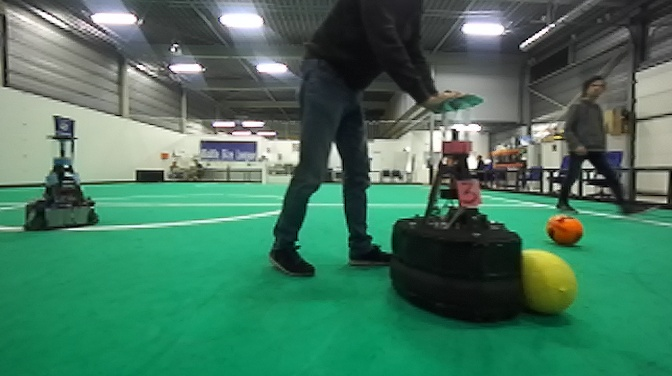ball: (515, 244, 579, 321), (544, 210, 586, 250)
goalpost: (259, 161, 266, 183)
human: (262, 1, 472, 283), (556, 71, 653, 221)
robot: (387, 90, 527, 331), (19, 113, 105, 234)
